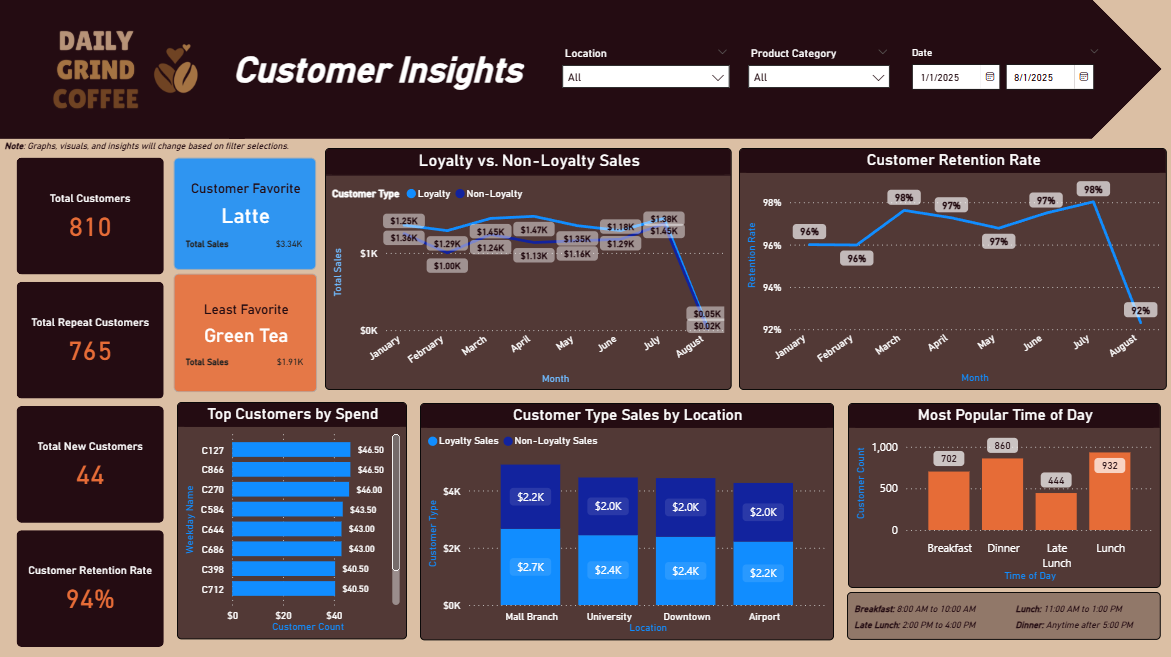

This screenshot's page, from the dashboard's own definition file:
{"tool":"powerbi","page":{"name":"Customer Insights","canvas":[1280,720],"ordinal":2},"visuals":[{"type":"shape","box":[0,0,266,152.1],"z":0},{"type":"shape","box":[248.9,0,1013.8,152.1],"z":1000},{"type":"textbox","box":[248.9,32.6,326.1,85.9],"z":2000},{"type":"slicer","fields":{"Values":["DimDate.Date"]},"box":[977.8,46.7,228.9,65.6],"z":3000},{"type":"slicer","fields":{"Values":["DimLocation.location"]},"box":[601.1,46.7,202.2,67.8],"z":4000},{"type":"lineChart","title":"Loyalty vs. Non-Loyalty Sales","fields":{"Category":["DimDate.Month"],"Y":["FactSales.total_sales for Loyalty","FactSales.total_sales for Non-Loyalty"]},"box":[353.3,162,442.4,263],"z":5000},{"type":"textbox","box":[0,145,395,34],"z":6000},{"type":"image","box":[133.7,32.6,115.2,84.8],"z":7000,"group":"g1"},{"type":"cardVisual","fields":{"Data":["FactSales.count_customers","FactSales.count_customer_repeat","FactSales.count_customer_new","FactSales.count_customers for Repeat divided by count_customers"]},"box":[13,167.4,170.7,543.5],"z":7000},{"type":"lineStackedColumnComboChart","title":"Most Popular Time of Day","fields":{"Category":["FactSales.time_of_day"],"Y":["CountNonNull(FactSales.customer_id)"]},"box":[922.3,439.1,340.2,201],"z":7000,"group":"g2"},{"type":"slicer","fields":{"Values":["FactSales.product_category"]},"box":[803.3,46.7,174.4,52.2],"z":8000},{"type":"cardVisual","fields":{"Data":["Min(FactSales.product_name)"]},"box":[183.7,167.4,165.2,132.6],"z":9000},{"type":"cardVisual","fields":{"Data":["Min(FactSales.product_name)"]},"box":[183.7,293.5,166.3,139.1],"z":10000},{"type":"barChart","title":"Top Customers by Spend","fields":{"Category":["FactSales.customer_id"],"Y":["FactSales.total_sales"]},"box":[192.4,438,250,257.6],"z":11000},{"type":"group","id":"g1","title":"Group 2","box":[32.6,15.2,216.3,120.7],"z":12000},{"type":"image","box":[32.6,15.2,143.5,120.7],"z":13001,"group":"g1"},{"type":"group","id":"g2","title":"Group 1","box":[920.7,439.1,342.4,256.5],"z":14000},{"type":"lineChart","title":"Customer Retention Rate","fields":{"Y":["FactSales.customer_retention_rate"],"Category":["DimDate.Month"]},"box":[803.3,162,465.2,263],"z":14001},{"type":"columnChart","title":"Customer Type Sales by Location","fields":{"Category":["FactSales.location"],"Y":["FactSales.total_sales_loyalty","FactSales.total_sales_nonloyalty"]},"box":[456.5,439.1,450,257.6],"z":14002},{"type":"textbox","box":[920.7,644.5,341.2,51.8],"z":15000,"group":"g2"}]}

Visuals, with their boxes in screenshot pixels (x1, y1, x2, y2), scaled from the page's 1280x720 canvas onto the 1171x657 screenshot:
shape: 0,0,243,139
shape: 228,0,1155,139
textbox: 228,30,526,108
slicer - DimDate.Date: 895,43,1104,102
slicer - DimLocation.location: 550,43,735,104
"Loyalty vs. Non-Loyalty Sales" lineChart: 323,148,728,388
textbox: 0,132,361,163
image: 122,30,228,107
cardVisual - FactSales.count_customers x FactSales.count_customer_repeat: 12,153,168,649
"Most Popular Time of Day" lineStackedColumnComboChart: 844,401,1155,584
slicer - FactSales.product_category: 735,43,894,90
cardVisual - Min(FactSales.product_name): 168,153,319,274
cardVisual - Min(FactSales.product_name): 168,268,320,395
"Top Customers by Spend" barChart: 176,400,405,635
"Group 2" group: 30,14,228,124
image: 30,14,161,124
"Group 1" group: 842,401,1156,635
"Customer Retention Rate" lineChart: 735,148,1160,388
"Customer Type Sales by Location" columnChart: 418,401,829,636
textbox: 842,588,1154,635
